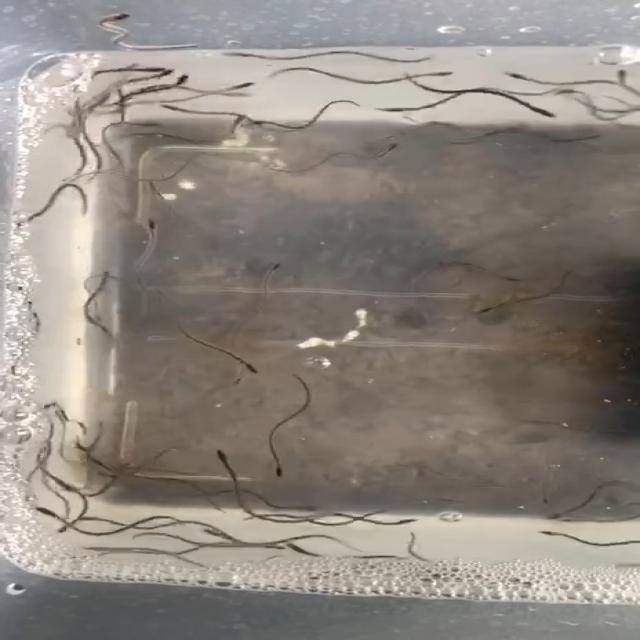inactive_glass_eel: (208, 81, 264, 96), (206, 446, 242, 469), (221, 46, 270, 62), (49, 514, 86, 534), (20, 503, 66, 519), (611, 65, 640, 90), (5, 210, 42, 228), (370, 140, 405, 159), (73, 511, 114, 527), (161, 73, 193, 93), (373, 101, 431, 112), (152, 101, 197, 115), (376, 516, 420, 530), (543, 507, 586, 521), (128, 63, 178, 75), (552, 83, 598, 96), (224, 371, 253, 391), (499, 70, 540, 84), (139, 70, 179, 83), (527, 103, 559, 119), (530, 526, 581, 536), (132, 116, 172, 128), (144, 219, 169, 238), (95, 10, 131, 23), (477, 302, 515, 314), (200, 527, 232, 541), (489, 272, 529, 283), (416, 68, 452, 80), (262, 261, 286, 279), (90, 272, 114, 290), (266, 460, 288, 479), (239, 358, 260, 376), (242, 120, 283, 129), (249, 543, 293, 551), (539, 490, 558, 507)
